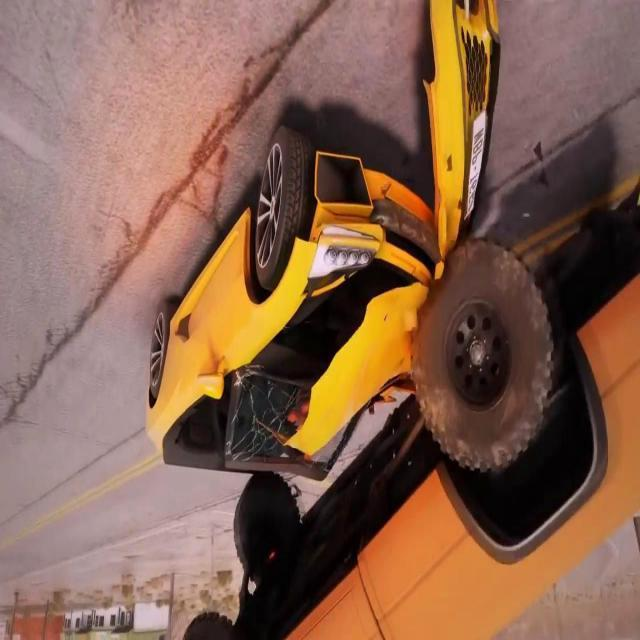severe: (142, 100, 634, 634)
